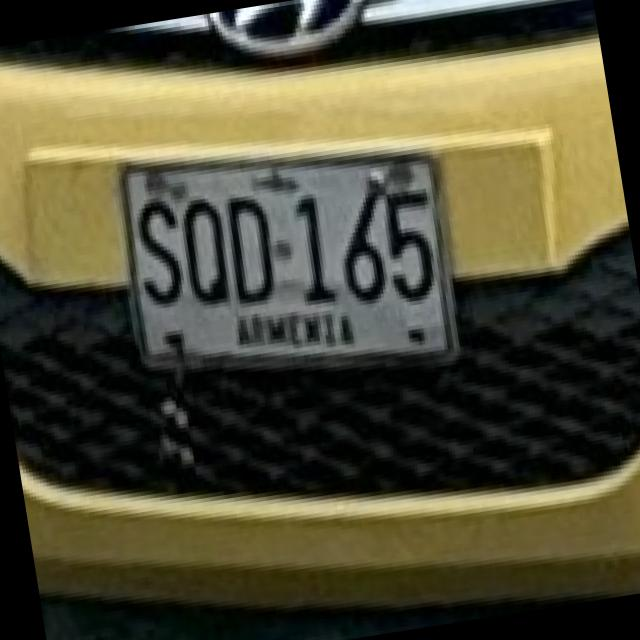number plate: (115, 148, 463, 368)
